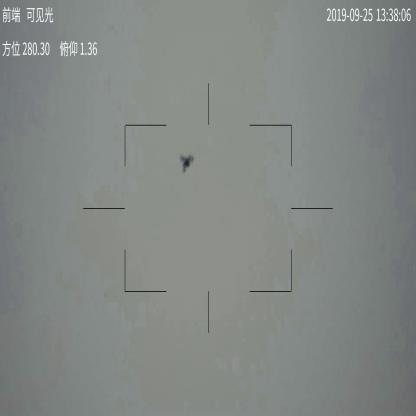uav: (178, 151, 196, 176)
